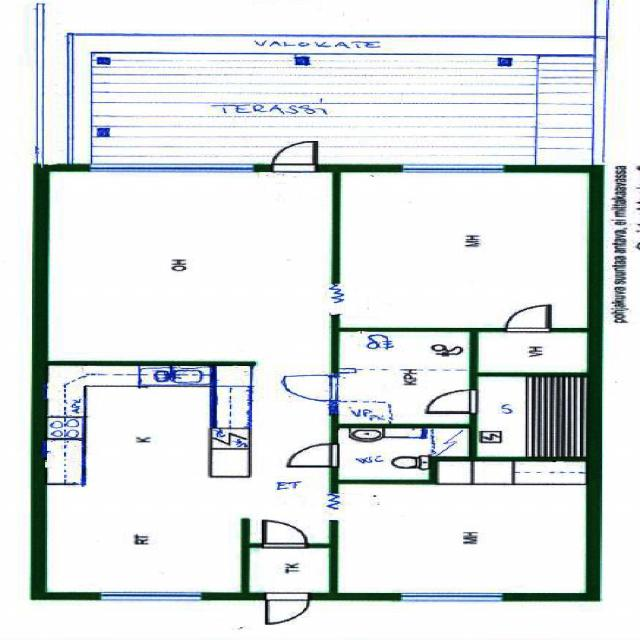door: (282, 375, 338, 400), (266, 592, 309, 624), (272, 141, 315, 172), (424, 389, 477, 413), (506, 304, 550, 332), (263, 521, 308, 548), (286, 444, 338, 466)
